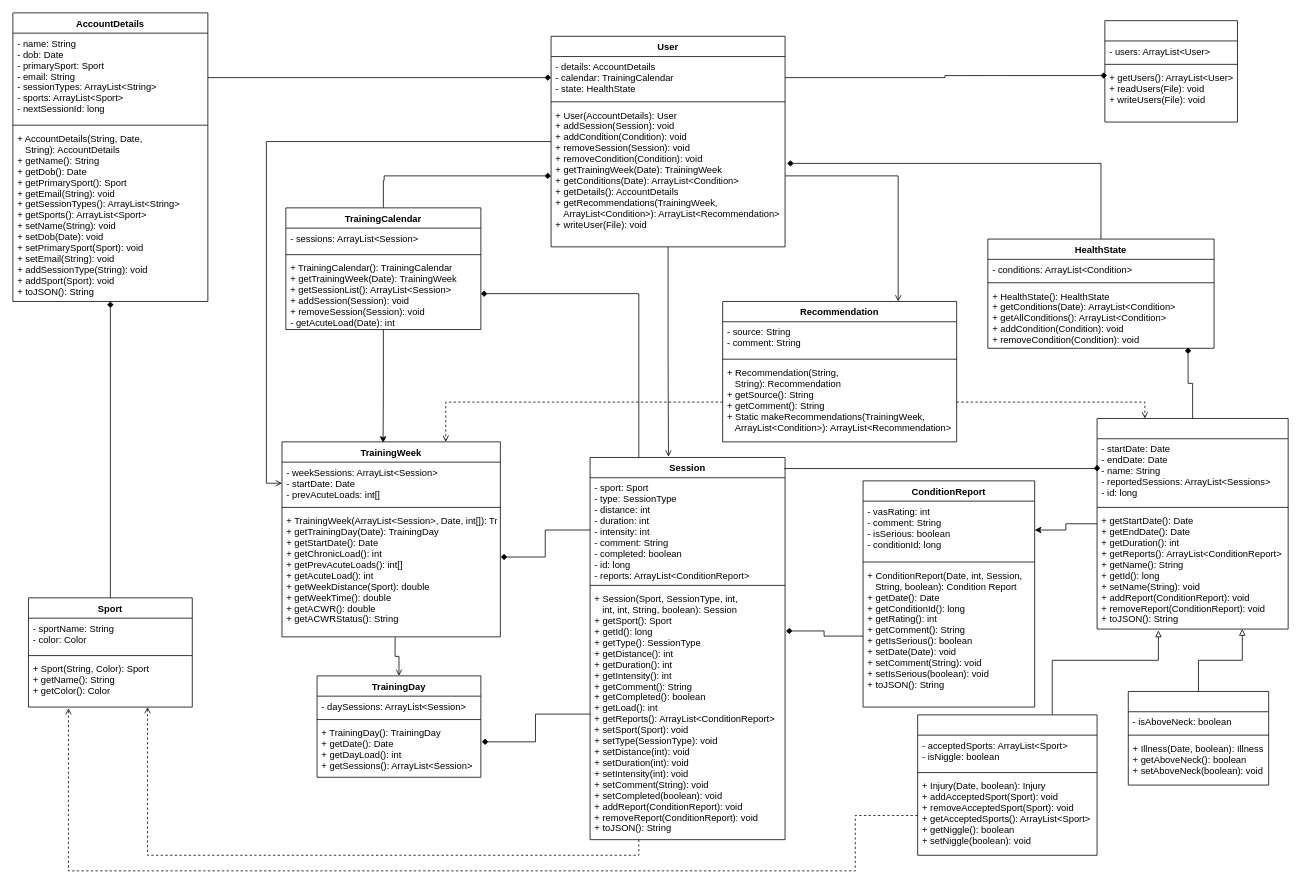
Image size: 1301x884. Some labels were removed from this diagram. The box of each missing label's shape, as (x1, y1, x2, y2) in pixels:
Condition (Abstract Class): (1096, 418, 1288, 629)
Illness (extend Condition): (1127, 691, 1269, 785)
Injury (extend Condition): (917, 714, 1097, 855)
TrainingPlanner: (1104, 20, 1237, 122)
